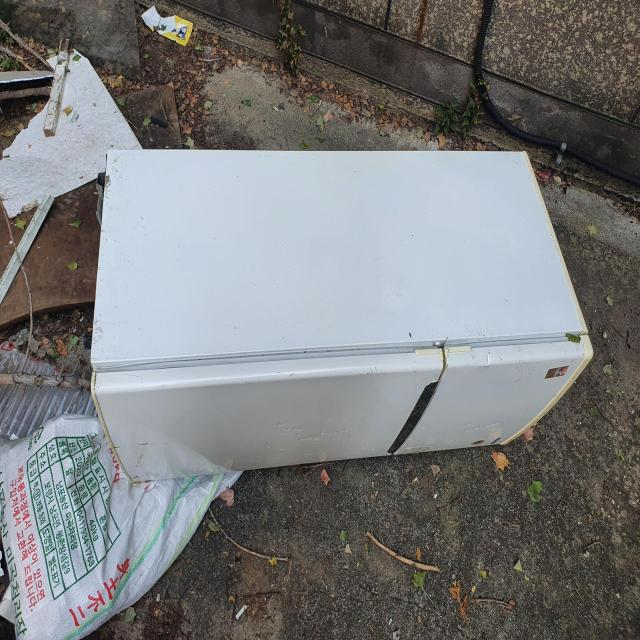refrigerator: (88, 147, 595, 487)
